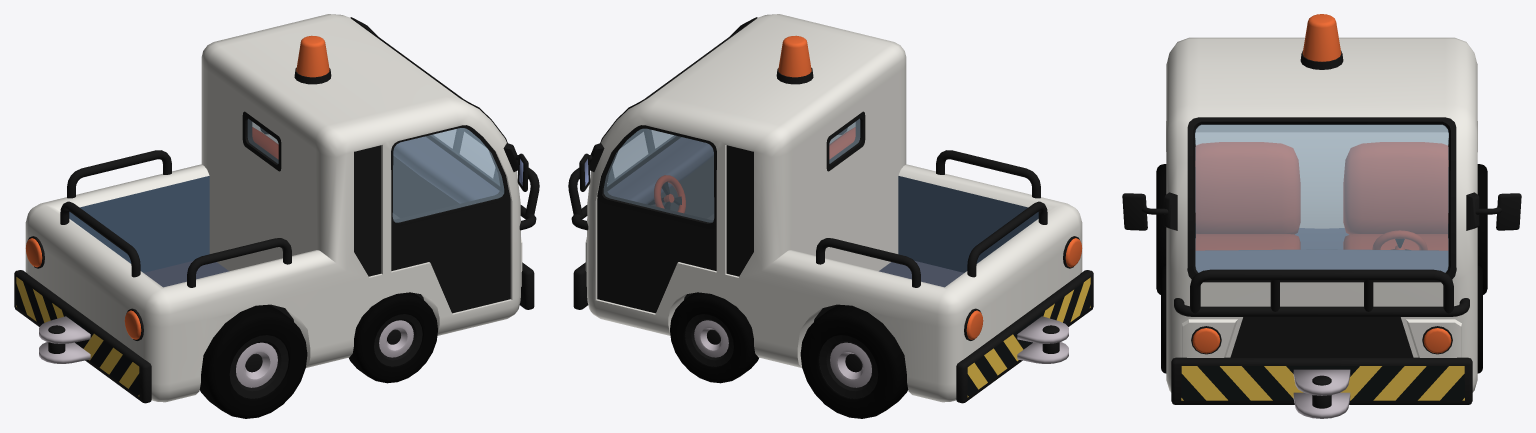
File: airport-baggage-truck-1.glb
3 views of the same model, side by side, from view 1: azimuth 30°, elevation 25°; view 2: azimuth 150°, elevation 25°; view 3: azimuth 270°, elevation 25° (orthographic). The views are drawn at different scales.
Visible parts, largest first — view 1: 21.1.BaggageTruck_AIRPORT_0; view 2: 21.1.BaggageTruck_AIRPORT_0; view 3: 21.1.BaggageTruck_AIRPORT_0.
Part boxes in pixels (x1,y1,x2,y2): 21.1.BaggageTruck_AIRPORT_0: (14, 14, 539, 418); 21.1.BaggageTruck_AIRPORT_0: (568, 14, 1093, 418); 21.1.BaggageTruck_AIRPORT_0: (1122, 14, 1521, 418).
Size of the model in its own units: 7.56 by 4.61 by 4.88.
Materials: 1 (1 with a texture image).
